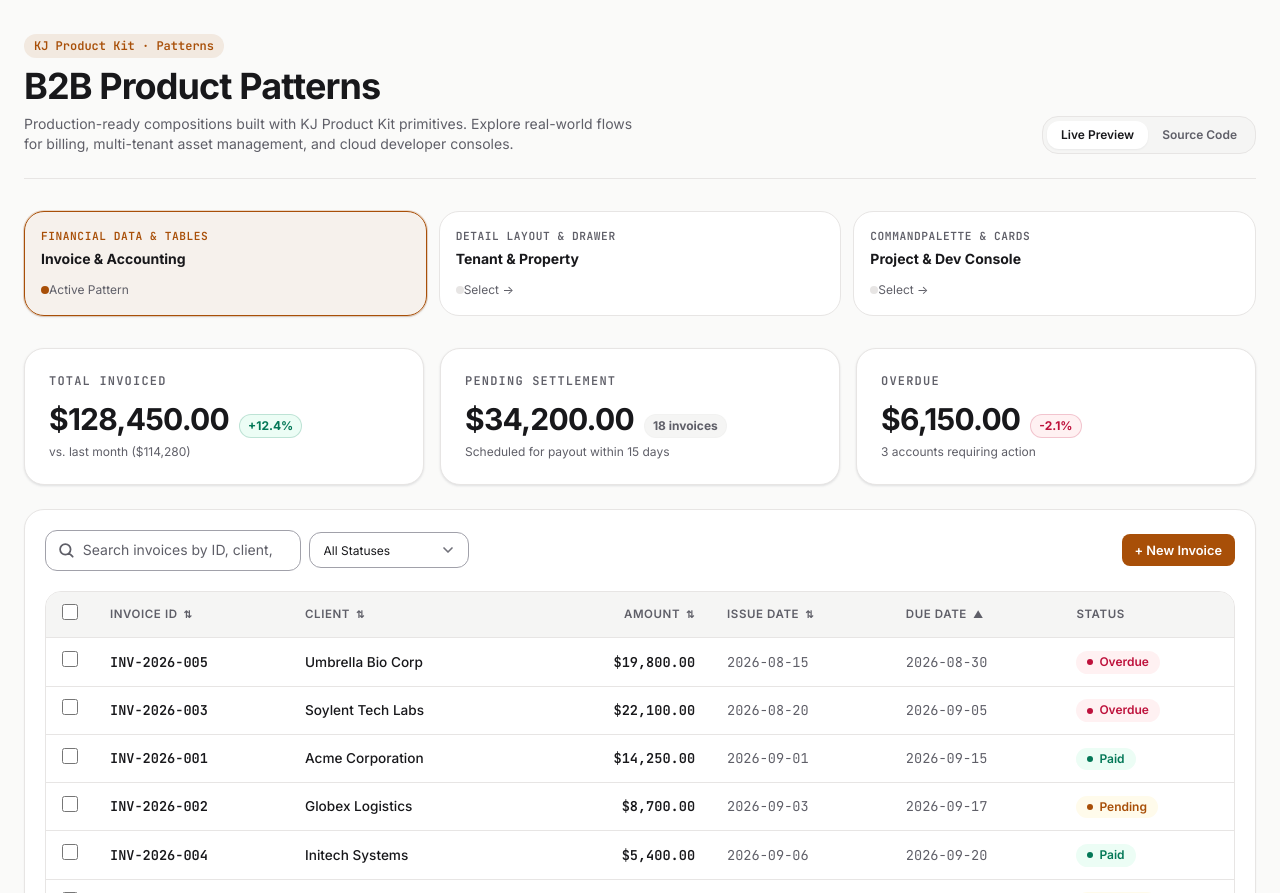
Test case: PatternsView › supports searching and filtering in the Invoice pattern
expect the text "Acme Corporation" is shown: met, box [305,750,424,766]
expect the text "Globex Logistics" is shown: met, box [305,798,412,814]
Type "Globex" into the search field with placeholder "Search invoices by ID, client, or amount..." at point(173, 550), box [45,530,301,571]
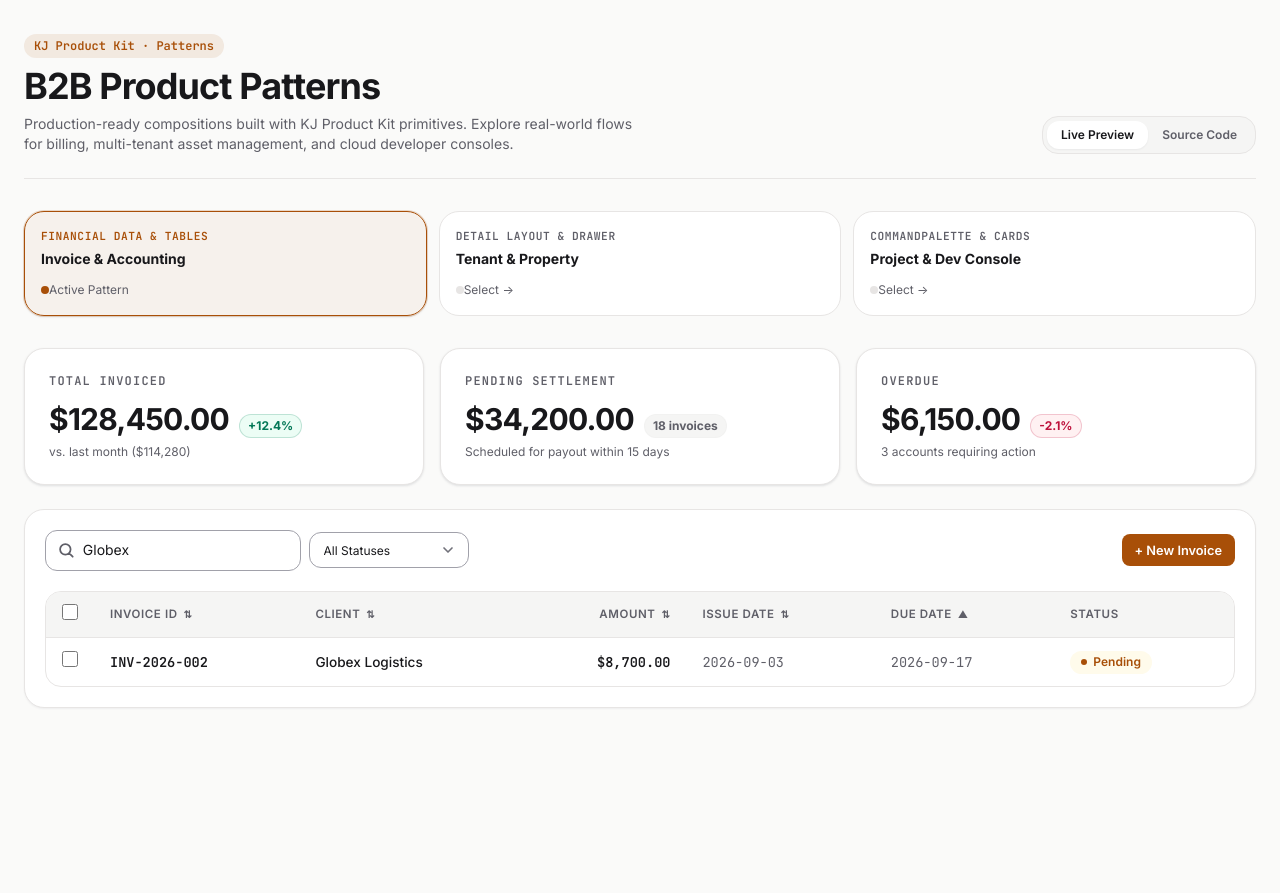
expect the text "Globex Logistics" is shown: met, box [315,654,423,670]
expect the text "Acme Corporation" is gone: met
